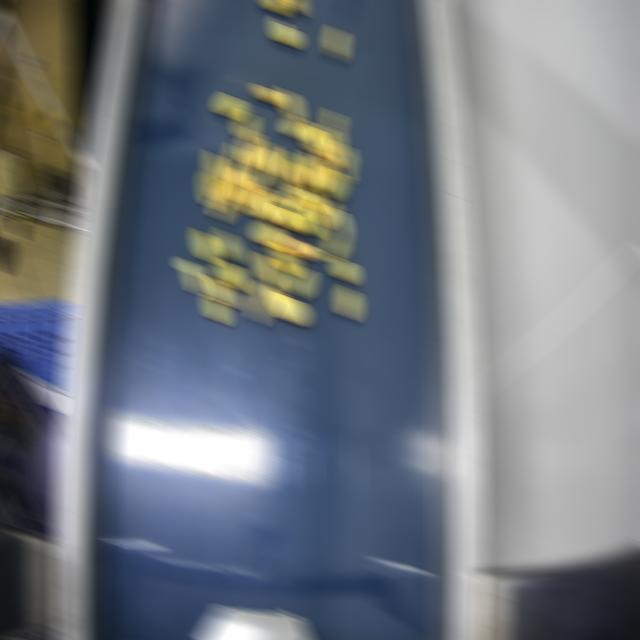Baby Potato: (267, 286, 309, 324), (289, 196, 323, 238), (242, 143, 269, 191), (325, 208, 350, 256), (284, 236, 328, 263), (206, 150, 228, 201), (255, 251, 283, 290), (249, 284, 272, 331), (212, 182, 238, 222), (251, 190, 283, 222), (270, 242, 300, 276), (220, 144, 244, 186), (216, 258, 247, 290), (241, 182, 270, 216), (252, 221, 286, 249), (215, 226, 241, 262), (206, 275, 236, 306), (179, 259, 204, 296), (276, 148, 297, 192), (194, 228, 218, 265), (301, 122, 327, 156), (238, 126, 260, 166), (318, 123, 340, 163), (318, 168, 346, 199), (336, 284, 360, 320), (287, 265, 314, 297), (311, 150, 333, 189), (215, 92, 246, 119), (299, 151, 321, 189), (326, 109, 345, 152), (272, 17, 300, 46), (333, 141, 353, 181), (230, 168, 252, 204), (216, 230, 241, 261), (278, 184, 310, 208), (194, 231, 217, 264), (272, 206, 300, 233), (279, 87, 301, 121), (314, 196, 338, 227), (203, 298, 227, 329), (216, 263, 245, 288), (234, 108, 256, 140), (261, 139, 280, 176), (199, 175, 218, 212), (332, 256, 358, 283), (326, 26, 346, 60), (302, 184, 326, 212), (283, 116, 310, 140), (254, 84, 283, 106), (288, 160, 308, 188), (276, 0, 304, 15), (261, 0, 286, 15)
